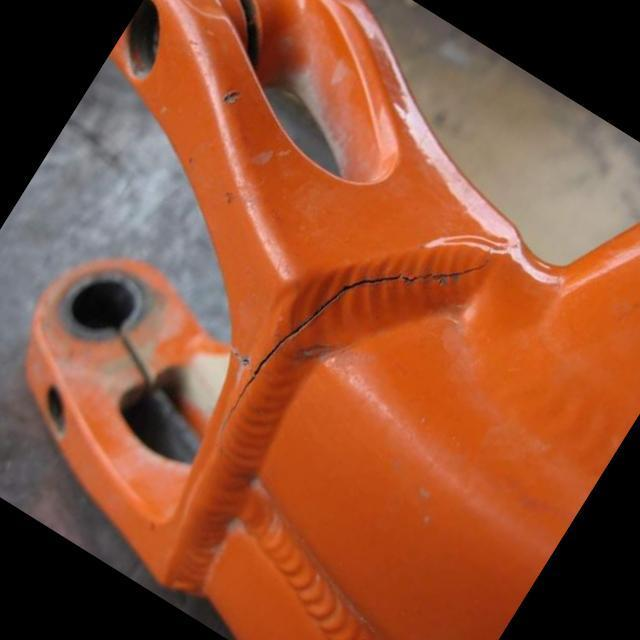defect: (214, 241, 499, 461)
